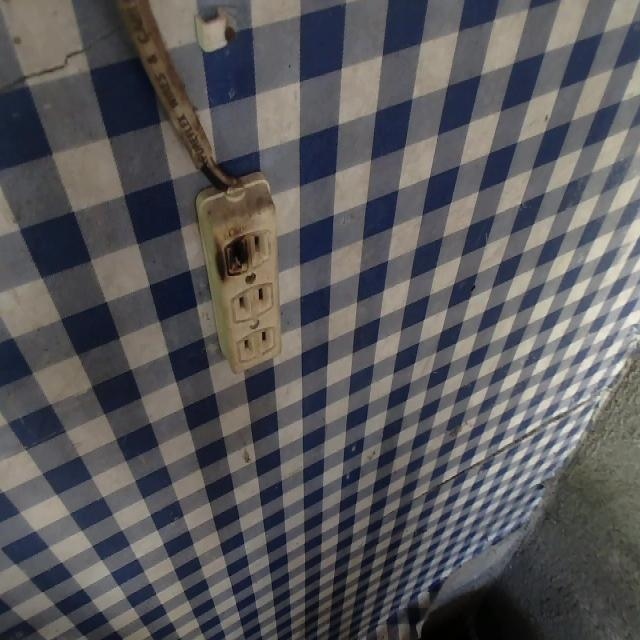-: (218, 225, 252, 283)
